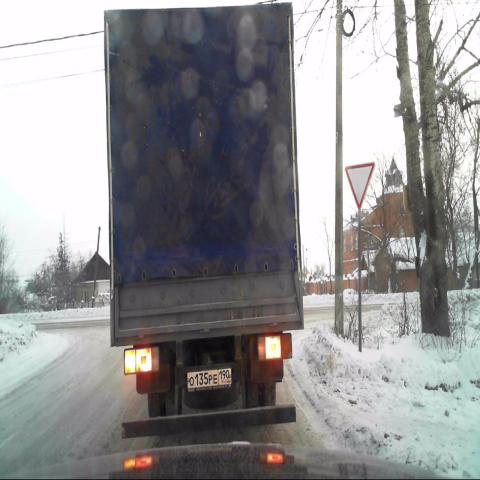2_4: (344, 160, 375, 206)
